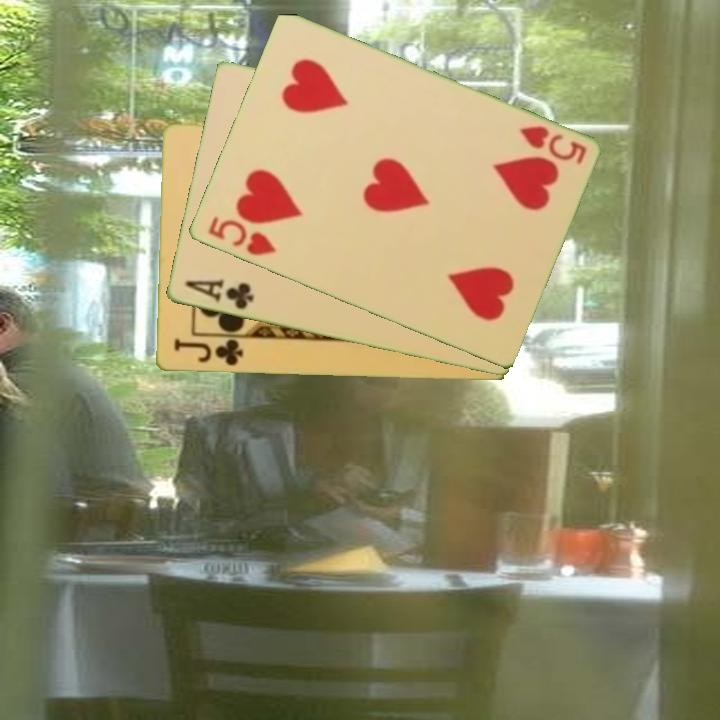5h: (204, 213, 279, 259), (515, 122, 589, 168)
Ac: (181, 275, 256, 313)
Jc: (169, 335, 245, 369)
